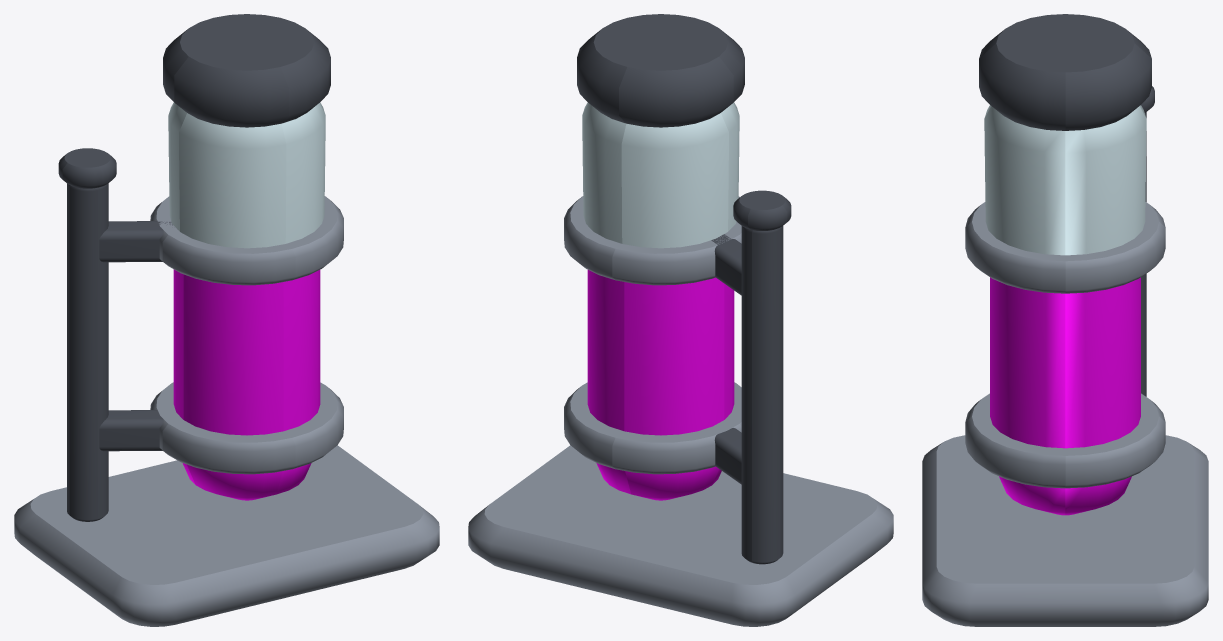
Rendered from objet_science_3.glb.
The picture shows the model from 3 angles, left to right: view 1: azimuth 30°, elevation 25°; view 2: azimuth 150°, elevation 25°; view 3: azimuth 270°, elevation 25°; orthographic projection. The views are drawn at different scales.
Parts seen in each view (by area): view 1: science_metal_sci.002, science_metal_sci_sombre.002, science_teinte.002, science_verre_flacon.002; view 2: science_metal_sci.002, science_metal_sci_sombre.002, science_teinte.002, science_verre_flacon.002; view 3: science_metal_sci.002, science_teinte.002, science_verre_flacon.002, science_metal_sci_sombre.002.
Part boxes in pixels (<box>): science_metal_sci.002: <box>14,196,439,626</box>; science_metal_sci_sombre.002: <box>58,14,330,521</box>; science_teinte.002: <box>173,269,320,500</box>; science_verre_flacon.002: <box>168,102,325,248</box>; science_metal_sci.002: <box>468,196,893,626</box>; science_metal_sci_sombre.002: <box>577,14,791,564</box>; science_teinte.002: <box>587,270,734,500</box>; science_verre_flacon.002: <box>582,102,739,248</box>; science_metal_sci.002: <box>922,202,1208,626</box>; science_teinte.002: <box>990,277,1140,515</box>; science_verre_flacon.002: <box>984,105,1146,255</box>; science_metal_sci_sombre.002: <box>979,14,1154,396</box>.
Bounding box in the file's own units: 0.16 × 0.24 × 0.12.
